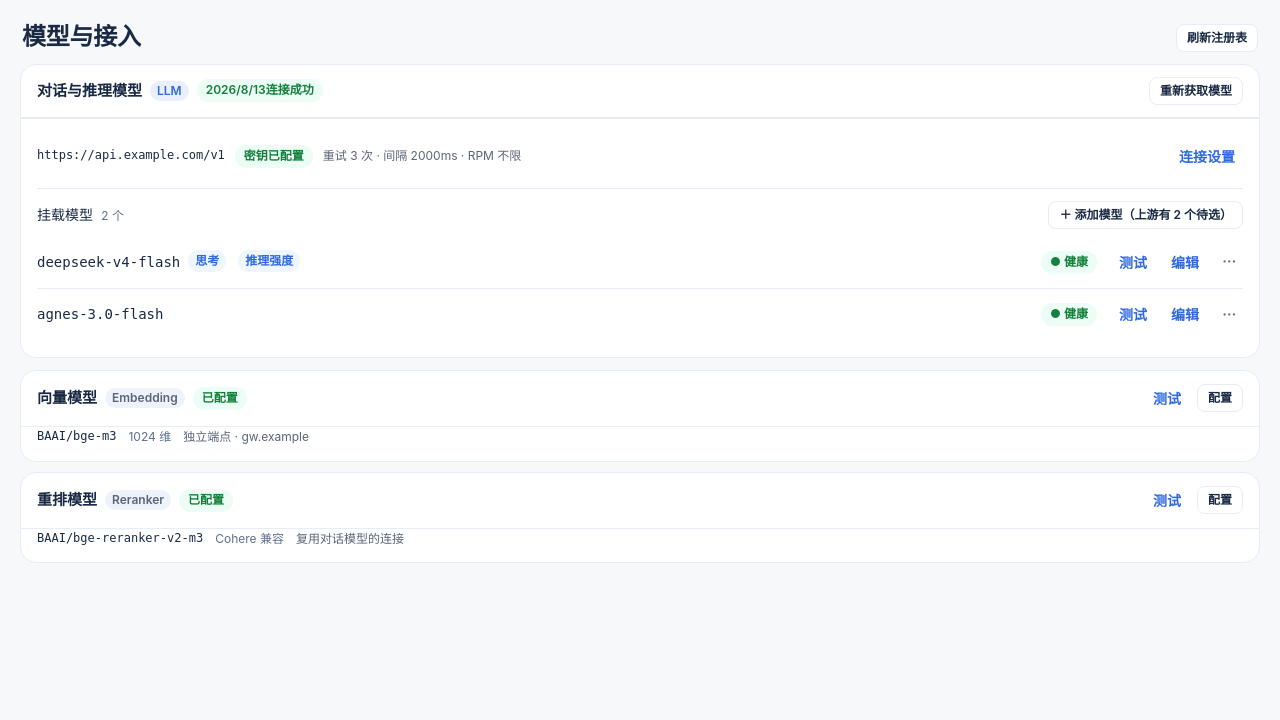
ApiConfig P1 修复批 › 连接测试只验证通道，不出现测试用模型下拉
Step 1. Click the button "连接设置" → (1207, 156), box [1171,141,1243,172]
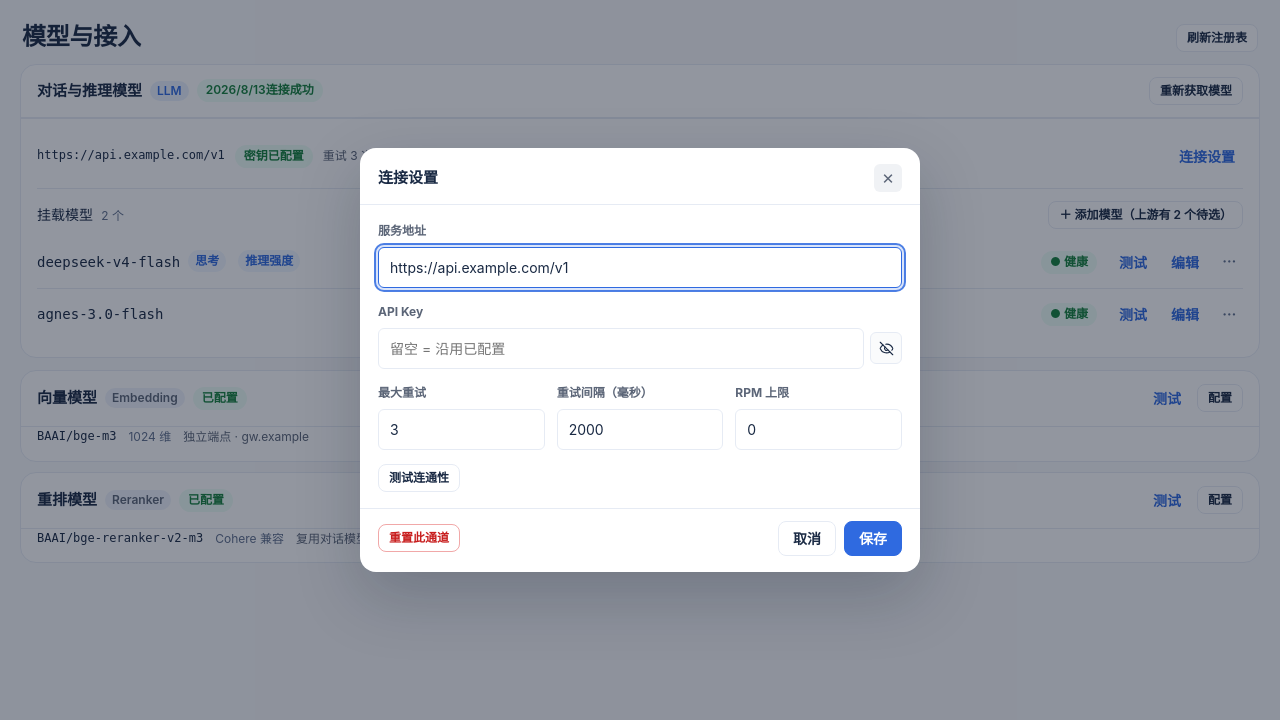
Now the button "测试连通性" is shown, box [378,464,460,492]
